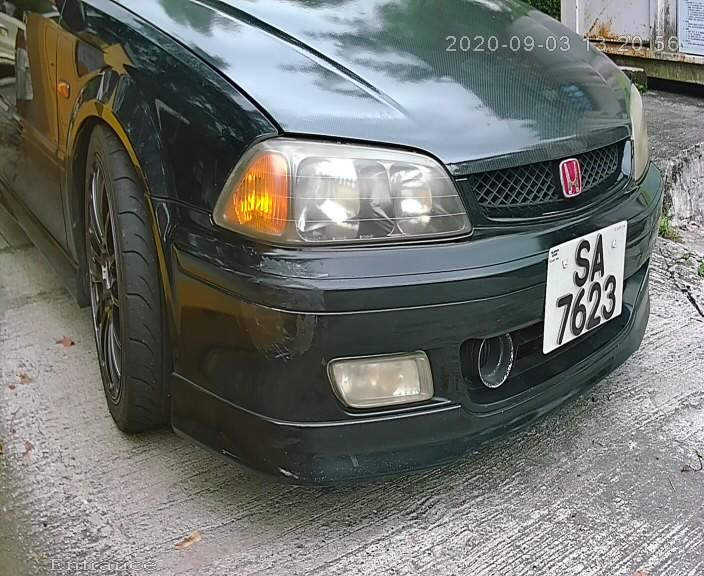License Plate: (535, 211, 626, 355)
